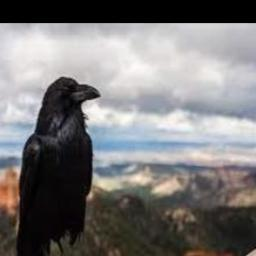Crow: (13, 76, 101, 256)
